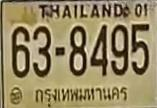3: (32, 25, 50, 76)
4: (90, 24, 107, 75)
5: (130, 23, 148, 74)
6: (11, 26, 29, 76)
8: (69, 25, 86, 75)
9: (110, 24, 128, 75)
BKK: (33, 83, 133, 108)
